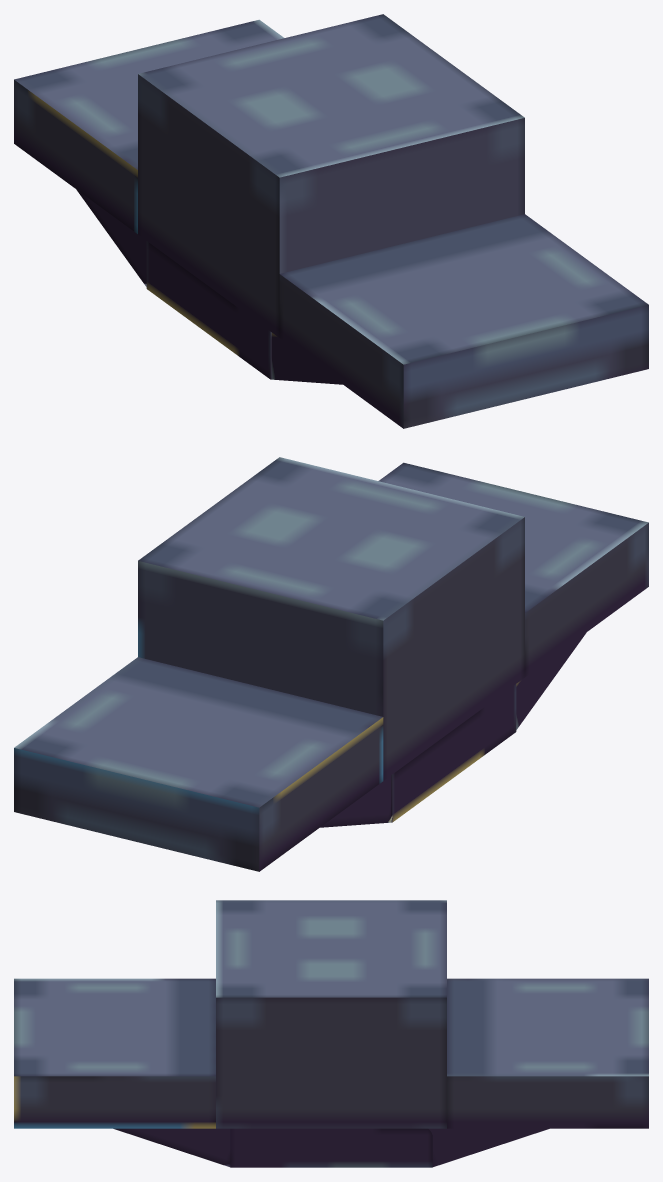
Rendered from zk6_top.obj.
3 renders of one model, top to bottom at view 1: azimuth 30°, elevation 25°; view 2: azimuth 150°, elevation 25°; view 3: azimuth 270°, elevation 25°, orthographic. The views are drawn at different scales.
Parts seen in each view (by area): view 1: cube; view 2: cube; view 3: cube.
Part boxes in pixels (box(x1,y1,x2,y2)): cube: box(14, 14, 648, 428); cube: box(14, 457, 648, 871); cube: box(14, 900, 648, 1167).
Size of the model in its own units: 1 by 0.8125 by 2.75.
